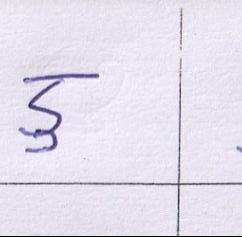u_matra: (24, 128, 61, 154)
